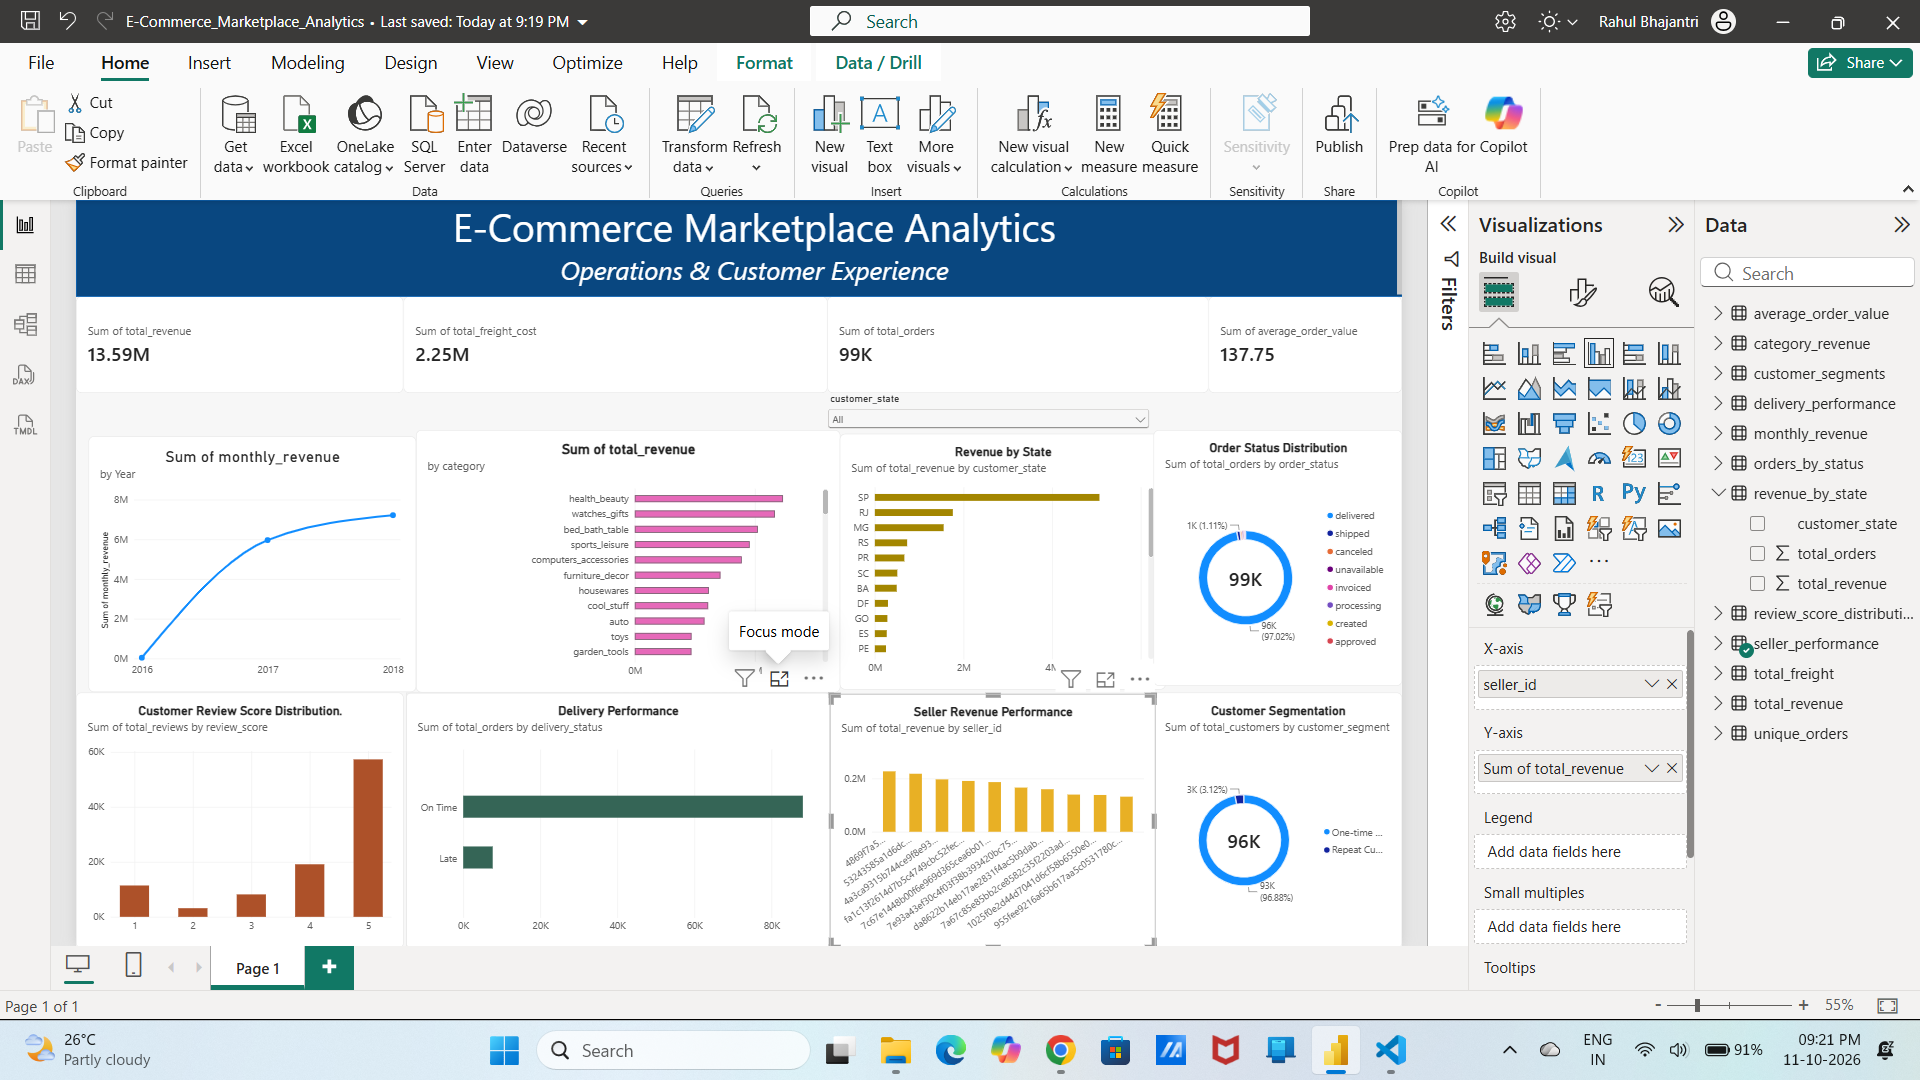

This screenshot's page, from the dashboard's own definition file:
{"tool":"powerbi","page":{"name":"Page 1","canvas":[1920,1080],"ordinal":0},"visuals":[{"type":"cardVisual","fields":{"Data":["Sum(total_revenue.total_revenue)"]},"box":[0,140,474,140],"z":0},{"type":"cardVisual","fields":{"Data":["Sum(total_freight.total_freight_cost)"]},"box":[474,140,614,140],"z":1000},{"type":"cardVisual","fields":{"Data":["Sum(unique_orders.total_orders)"]},"box":[1088,140,552,140],"z":2000},{"type":"cardVisual","fields":{"Data":["Sum(average_order_value.average_order_value)"]},"box":[1640,140,280,140],"z":3000},{"type":"lineChart","fields":{"Category":["monthly_revenue.month.Variation.Date Hierarchy.Year","monthly_revenue.month.Variation.Date Hierarchy.Quarter","monthly_revenue.month.Variation.Date Hierarchy.Month","monthly_revenue.month.Variation.Date Hierarchy.Day"],"Y":["Sum(monthly_revenue.monthly_revenue)"]},"box":[17.4,342,474,370],"z":4000},{"type":"clusteredBarChart","fields":{"Category":["category_revenue.category"],"Y":["Sum(category_revenue.total_revenue)"]},"box":[492.3,333.3,614,380],"z":5000},{"type":"clusteredBarChart","title":"Revenue by State","fields":{"Category":["revenue_by_state.customer_state"],"Y":["Sum(revenue_by_state.total_revenue)"]},"box":[1106.6,337.6,472,370],"z":6000},{"type":"donutChart","title":"Order Status Distribution","fields":{"Category":["orders_by_status.order_status"],"Y":["Sum(orders_by_status.total_orders)"]},"box":[1559.7,333.3,360,370],"z":7000},{"type":"clusteredColumnChart","title":"Customer Review Score Distribution.","fields":{"Category":["review_score_distribution.review_score"],"Y":["Sum(review_score_distribution.total_reviews)"]},"box":[0,712.3,474,370],"z":8000},{"type":"clusteredBarChart","title":"Delivery Performance","fields":{"Category":["delivery_performance.delivery_status"],"Y":["Sum(delivery_performance.total_orders)"]},"box":[477,712.3,614,370],"z":9000},{"type":"clusteredColumnChart","title":"Seller Revenue Performance","fields":{"Category":["seller_performance.seller_id"],"Y":["Sum(seller_performance.total_revenue)"]},"box":[1091.3,714.5,472,370],"z":10000},{"type":"donutChart","title":"Customer Segmentation","fields":{"Category":["customer_segments.customer_segment"],"Y":["Sum(customer_segments.total_customers)"]},"box":[1559.7,712.3,360,370],"z":11000},{"type":"shape","box":[0,0,1920,140],"z":12000},{"type":"textbox","box":[52,0,1868,140],"z":13000},{"type":"slicer","fields":{"Values":["revenue_by_state.customer_state"]},"box":[1084.8,278.8,474.9,82.8],"z":13001}]}

Visuals, with their boxes on the page's 1920x1080 design canvas (x1, y1, x2, y2). These are canvas units, not pixel positions in the 1920x1080 screenshot, which may show the page scaled, cropped or inside an application window:
cardVisual - Sum(total_revenue.total_revenue): 0,140,474,280
cardVisual - Sum(total_freight.total_freight_cost): 474,140,1088,280
cardVisual - Sum(unique_orders.total_orders): 1088,140,1640,280
cardVisual - Sum(average_order_value.average_order_value): 1640,140,1920,280
lineChart - monthly_revenue.month.Variation.Date Hierarchy.Year x monthly_revenue.month.Variation.Date Hierarchy.Quarter: 17,342,491,712
clusteredBarChart - category_revenue.category x Sum(category_revenue.total_revenue): 492,333,1106,713
"Revenue by State" clusteredBarChart: 1107,338,1579,708
"Order Status Distribution" donutChart: 1560,333,1920,703
"Customer Review Score Distribution." clusteredColumnChart: 0,712,474,1082
"Delivery Performance" clusteredBarChart: 477,712,1091,1082
"Seller Revenue Performance" clusteredColumnChart: 1091,714,1563,1084
"Customer Segmentation" donutChart: 1560,712,1920,1082
shape: 0,0,1920,140
textbox: 52,0,1920,140
slicer - revenue_by_state.customer_state: 1085,279,1560,362
